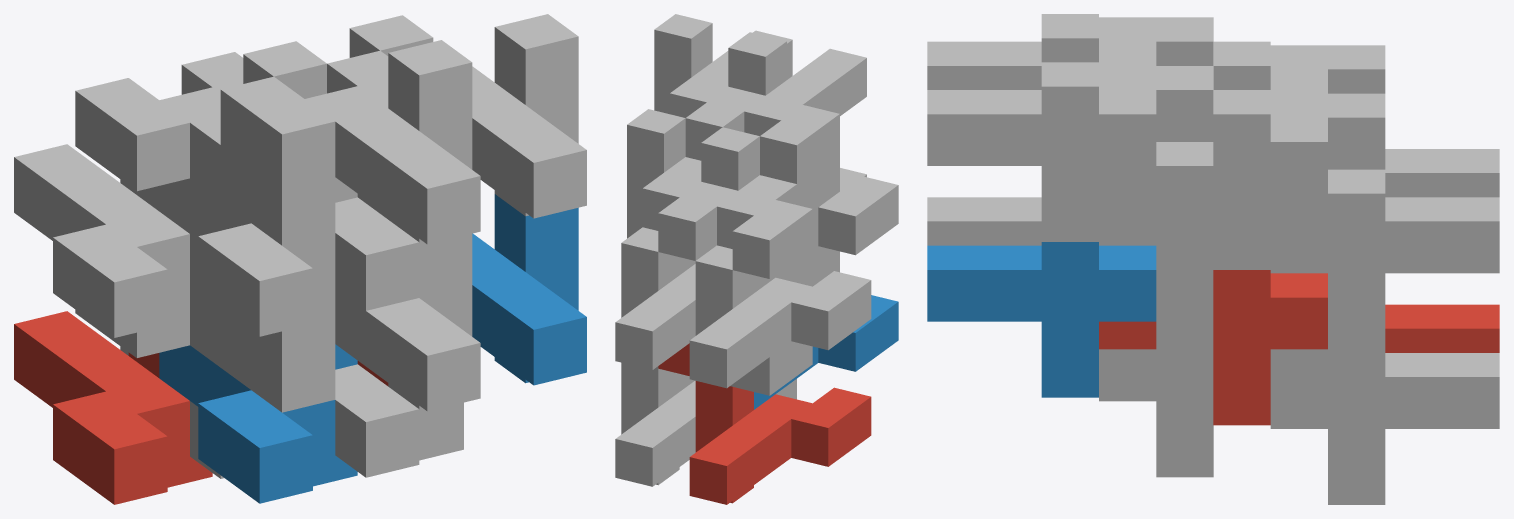
File: tiling.obj
The picture shows the model from 3 angles, left to right: view 1: azimuth 30°, elevation 25°; view 2: azimuth 150°, elevation 25°; view 3: azimuth 270°, elevation 25°; orthographic projection. The views are drawn at different scales.
Visible parts, largest first — view 1: copy_2_domain_4, copy_2_domain_3, copy_1_domain_1, copy_1_domain_3, copy_2_domain_8, copy_2_domain_2, copy_2_domain_6, copy_1_domain_2, copy_1_domain_4, copy_2_domain_1, copy_1_domain_6, copy_1_domain_8 (+3 smaller); view 2: copy_1_domain_3, copy_1_domain_1, copy_2_domain_4, copy_2_domain_3, copy_2_domain_7, copy_2_domain_8, copy_1_domain_7, copy_1_domain_5, copy_1_domain_4, copy_1_domain_2, copy_2_domain_1, copy_2_domain_2 (+1 smaller); view 3: copy_2_domain_8, copy_2_domain_6, copy_2_domain_7, copy_1_domain_7, copy_1_domain_5, copy_1_domain_8, copy_1_domain_6, copy_2_domain_5, copy_2_domain_4, copy_2_domain_3, copy_1_domain_1, copy_1_domain_3 (+1 smaller).
Boxes of the visible parts, x1,y1,x2,y2 form: copy_2_domain_4: (220, 40, 480, 244); copy_2_domain_3: (75, 41, 335, 245); copy_1_domain_1: (14, 311, 212, 504); copy_1_domain_3: (14, 144, 189, 337); copy_2_domain_8: (327, 14, 586, 218); copy_2_domain_2: (220, 233, 480, 411); copy_2_domain_6: (472, 194, 586, 385); copy_1_domain_2: (159, 344, 357, 503); copy_1_domain_4: (159, 177, 357, 336); copy_2_domain_1: (75, 289, 335, 412); copy_1_domain_6: (335, 364, 463, 477); copy_1_domain_8: (335, 197, 419, 310); copy_1_domain_3: (689, 245, 871, 388); copy_1_domain_1: (689, 381, 871, 504); copy_2_domain_4: (728, 32, 866, 183); copy_2_domain_3: (701, 127, 839, 278); copy_2_domain_7: (627, 109, 737, 260); copy_2_domain_8: (654, 14, 792, 160); copy_1_domain_7: (615, 227, 796, 369); copy_1_domain_5: (615, 362, 796, 486); copy_1_domain_4: (754, 176, 898, 292); copy_1_domain_2: (754, 295, 898, 409); copy_2_domain_1: (732, 269, 839, 395); copy_2_domain_2: (797, 168, 866, 286); copy_2_domain_8: (927, 62, 1213, 241); copy_2_domain_6: (927, 242, 1156, 397); copy_2_domain_7: (1099, 90, 1385, 269); copy_1_domain_7: (1270, 169, 1499, 349); copy_1_domain_5: (1270, 349, 1499, 504); copy_1_domain_8: (1099, 142, 1327, 321); copy_1_domain_6: (1099, 321, 1327, 477); copy_2_domain_5: (1099, 270, 1327, 425); copy_2_domain_4: (927, 14, 1213, 89); copy_2_domain_3: (1213, 41, 1385, 93); copy_1_domain_1: (1385, 304, 1499, 352); copy_1_domain_3: (1385, 149, 1499, 197).
Size of the model in its own units: 7 by 9 by 10.
